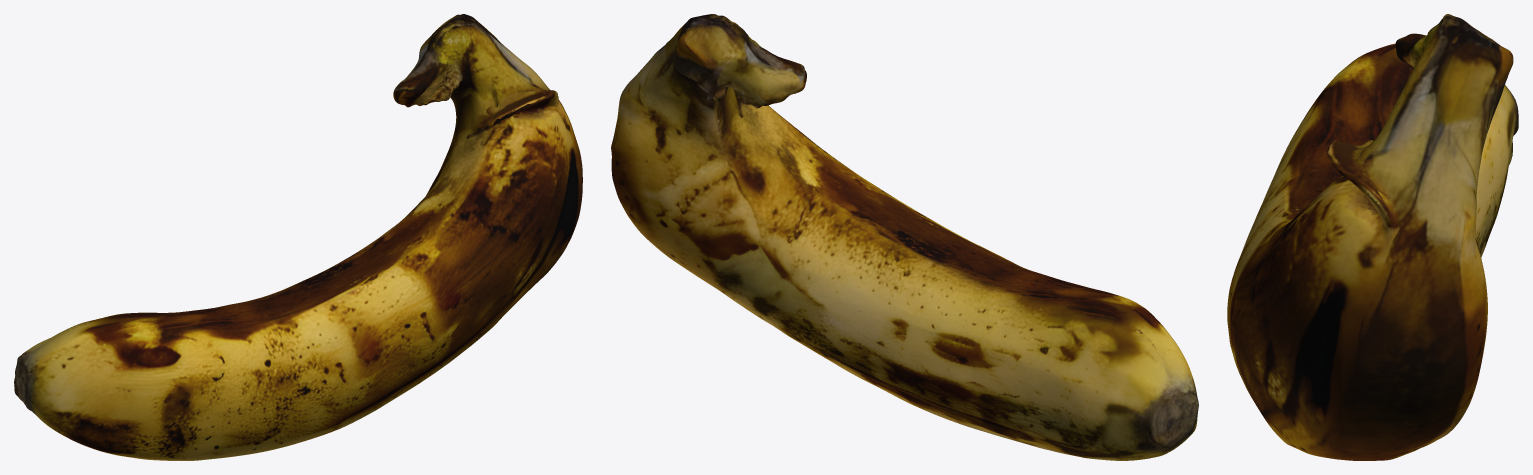
The model's file is iter_4.glb.
3 views of the same model, side by side, from view 1: azimuth 30°, elevation 25°; view 2: azimuth 150°, elevation 25°; view 3: azimuth 270°, elevation 25° (orthographic). The views are drawn at different scales.
Visible parts, largest first — view 1: textured_mesh; view 2: textured_mesh; view 3: textured_mesh.
Part boxes in pixels (x1,y1,x2,y2): textured_mesh: (14,14,582,460); textured_mesh: (611,14,1198,460); textured_mesh: (1227,14,1518,460).
Bounding box in the file's own units: 1.97 × 1.2 × 0.5743.
1 material, 1 textured.
